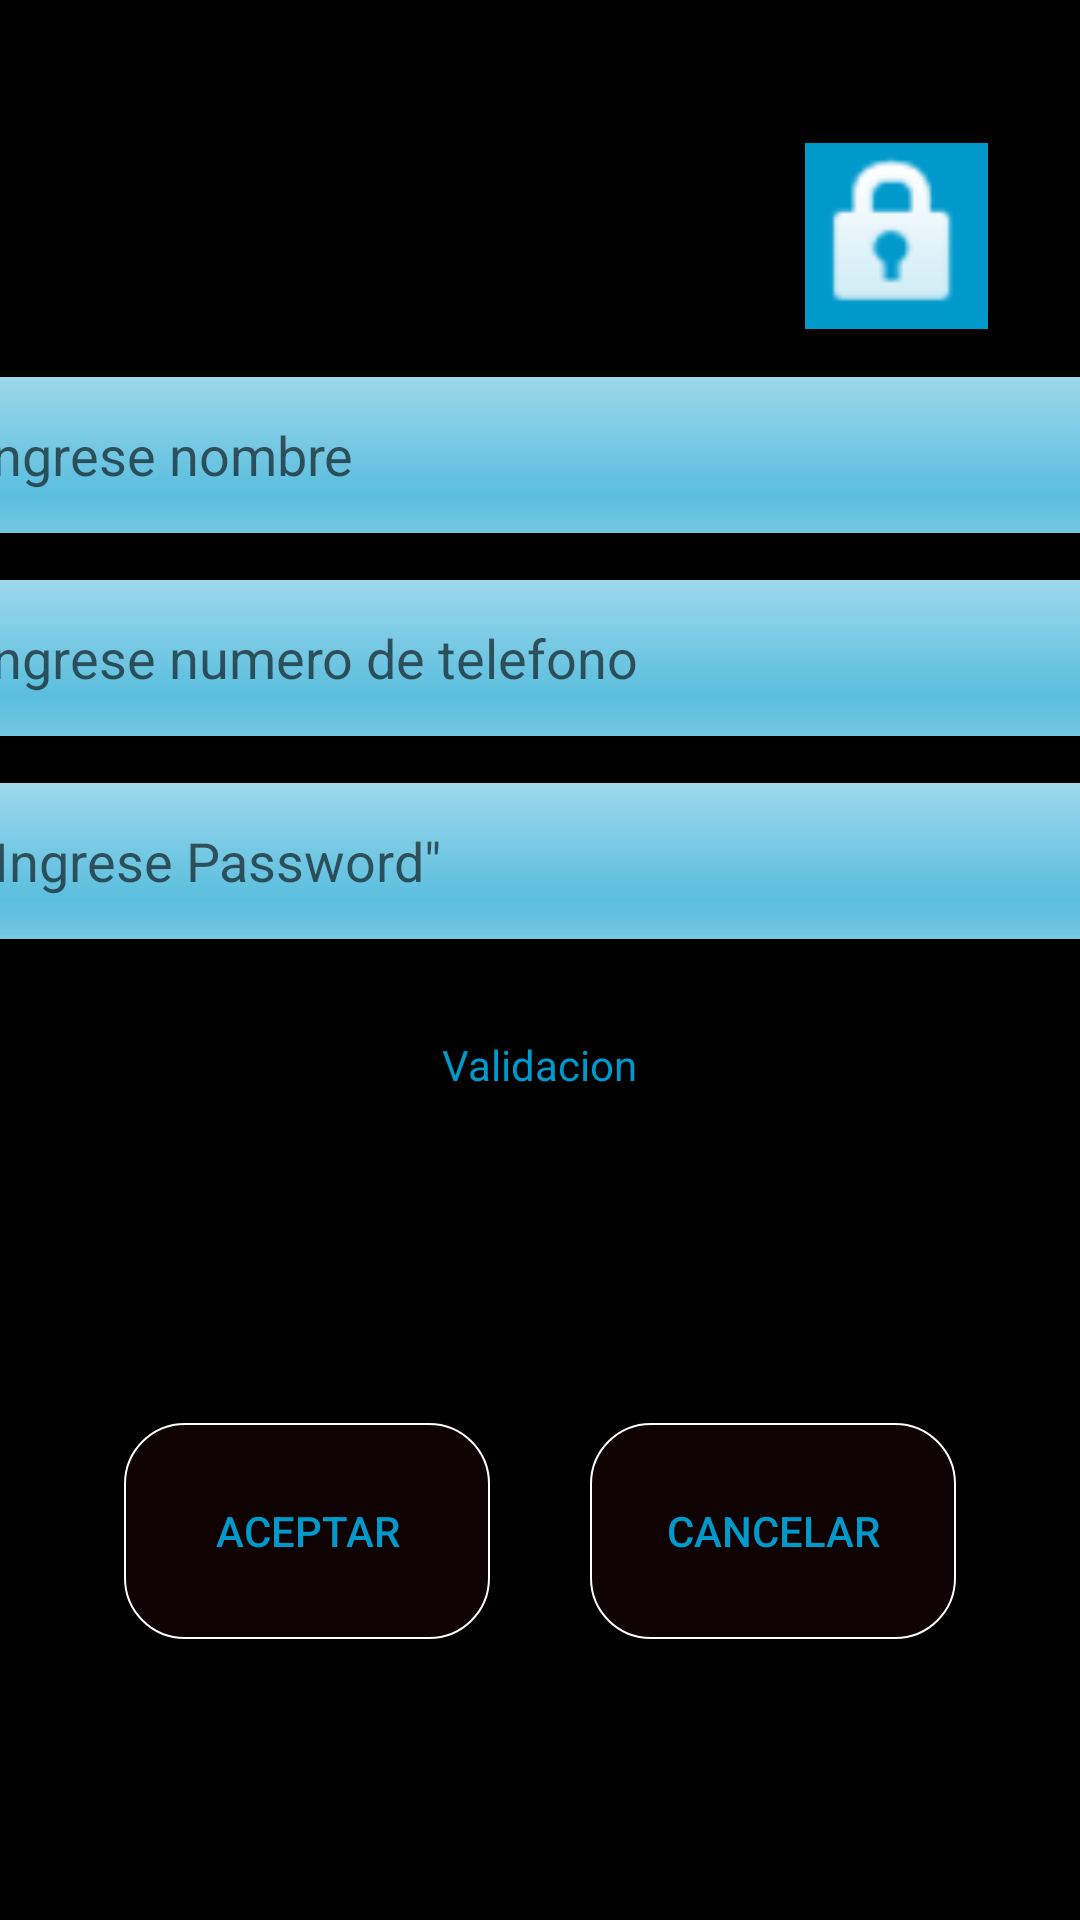

Icon click points for this 1080 x 1920 phone screenshot, format (x=x, y=y):
lock idle: (x=896, y=236)
